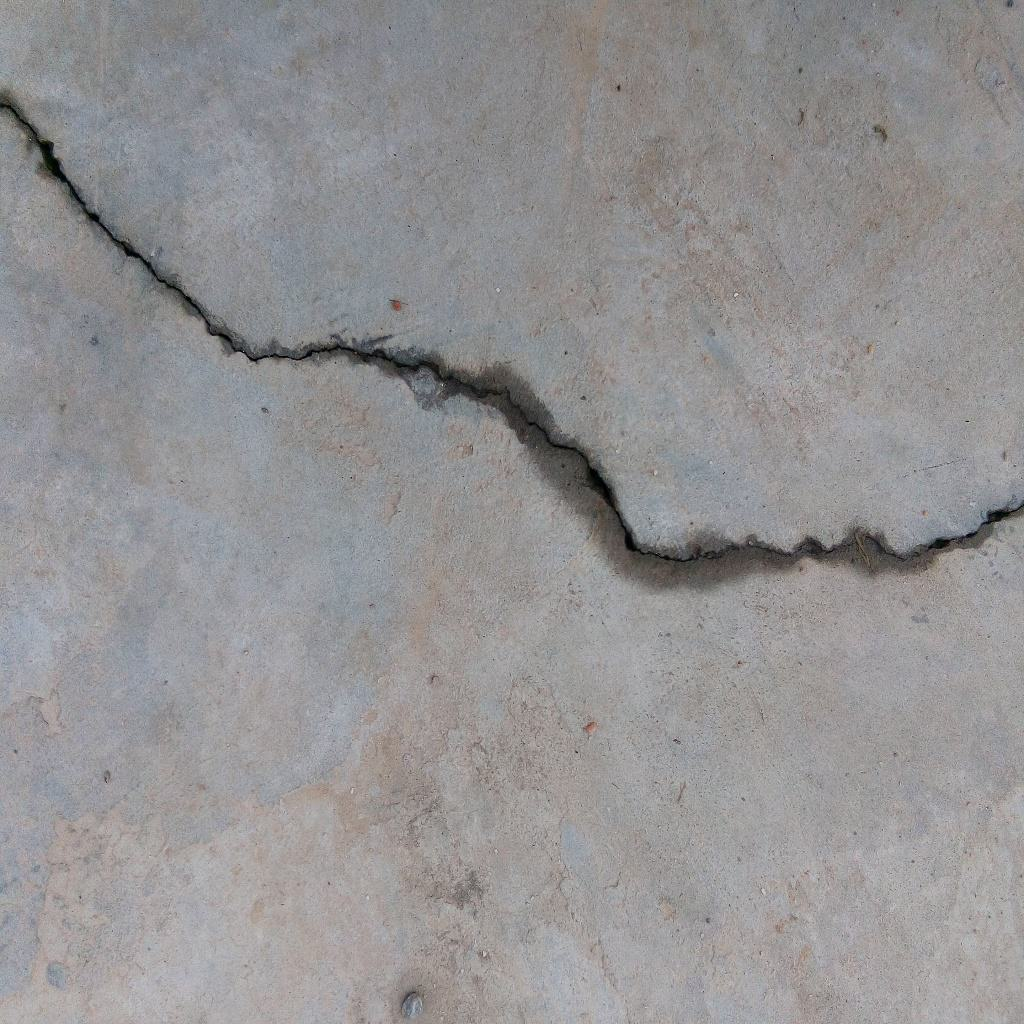Crack: (1, 88, 1024, 566)
